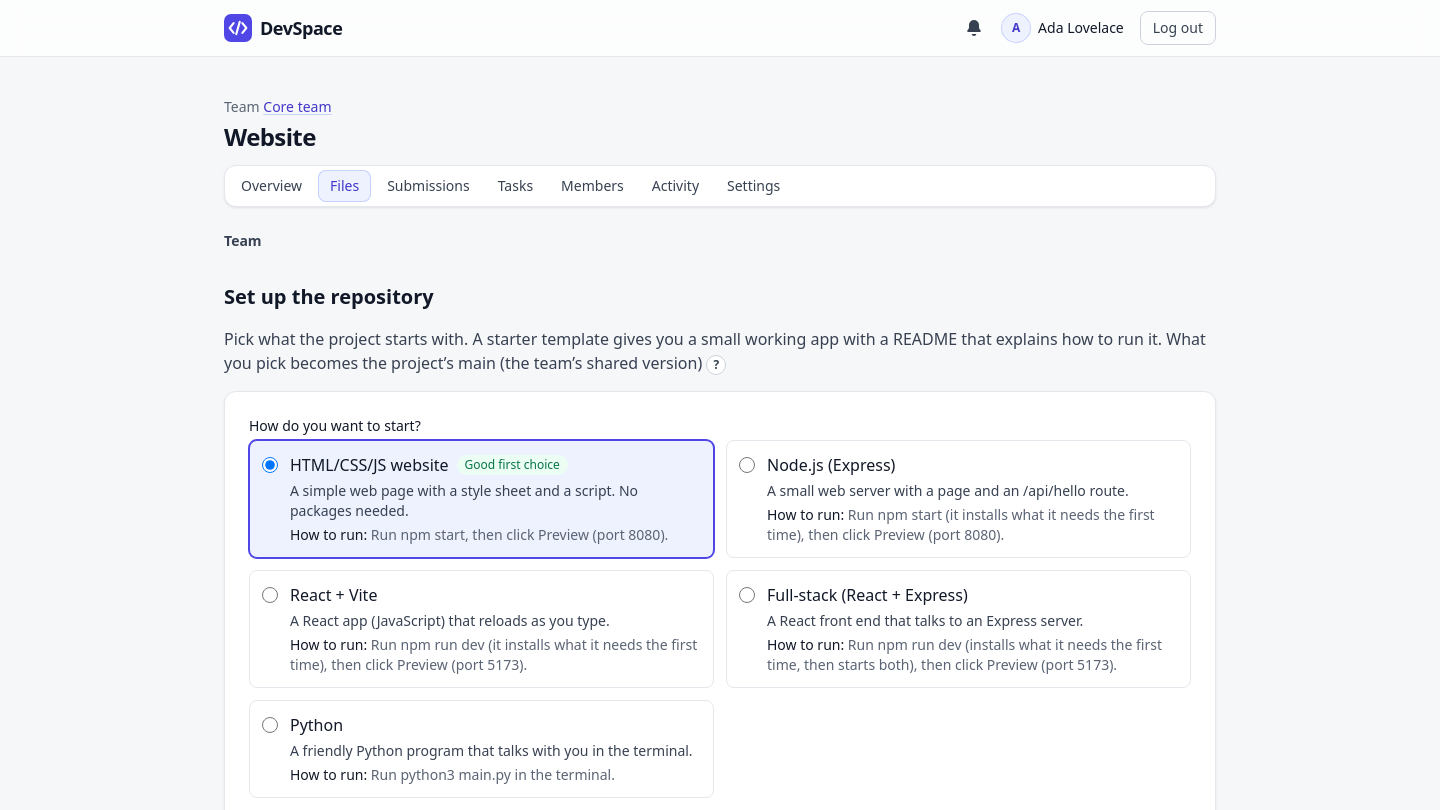
Test case: repository setup › offers template cards with how to run them, and sets up from the picked one
The width and height of the screenshot is (1440, 810).
Expected: the radio button labelled "HTML/CSS/JS website" is checked, x1=262 y1=457 x2=278 y2=473
Step 1. Click the radio button labelled "React + Vite" → click(270, 595), box x1=262 y1=587 x2=278 y2=603
(page scrolled)
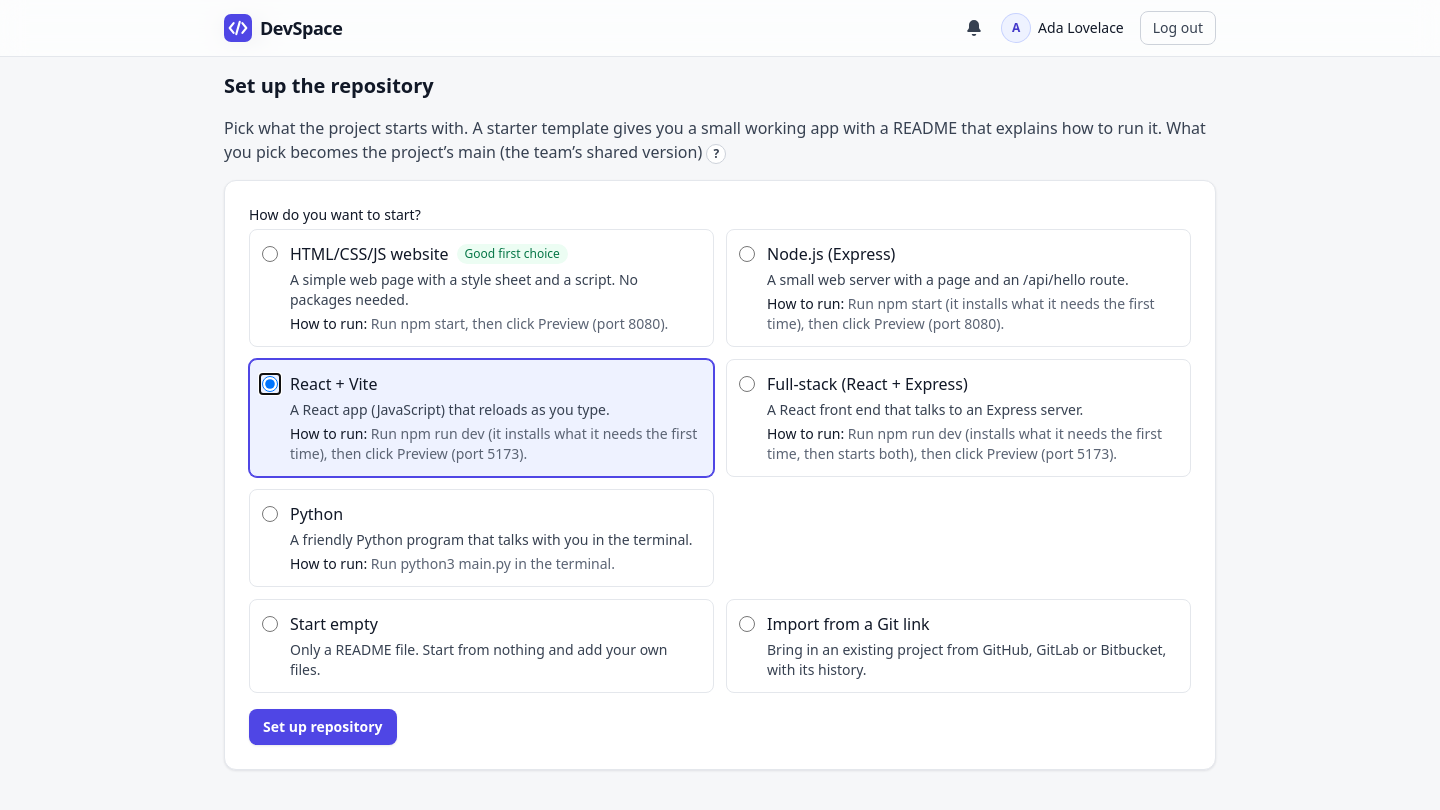
Result: the radio button labelled "React + Vite" is checked at x1=262 y1=376 x2=278 y2=392
Step 2. Click the button "Set up repository" → click(323, 727), box x1=249 y1=709 x2=397 y2=745
(page scrolled)
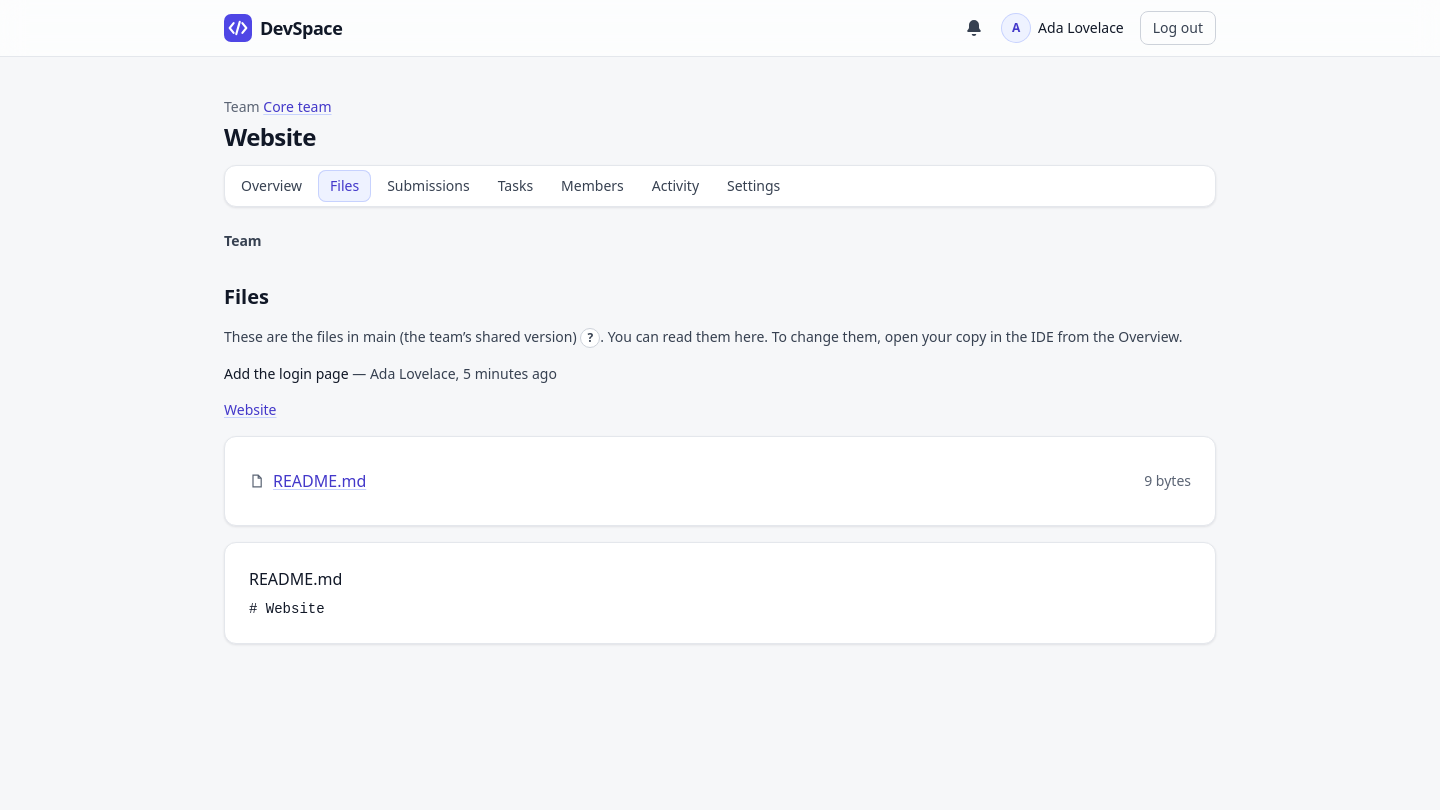
Result: the link "README.md" is shown at x1=273 y1=469 x2=366 y2=493
